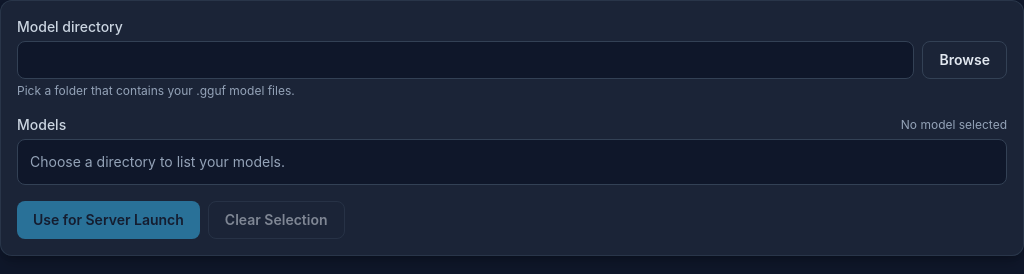
Test: ModelsTab › shows a clear error for a nonexistent directory
This screenshot has width=1024, height=274.
Type "/nope" into the field with test id "model-directory" at coordinates (466, 60), box [17,41,914,79]
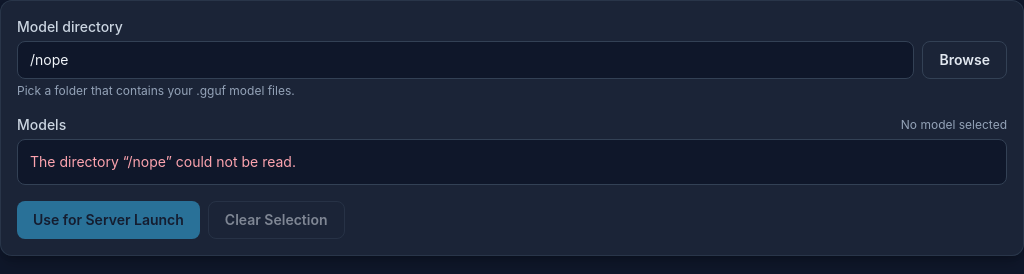
Expected: the text with test id "model-list-error" shows "could not be read", [30,153,296,170]
